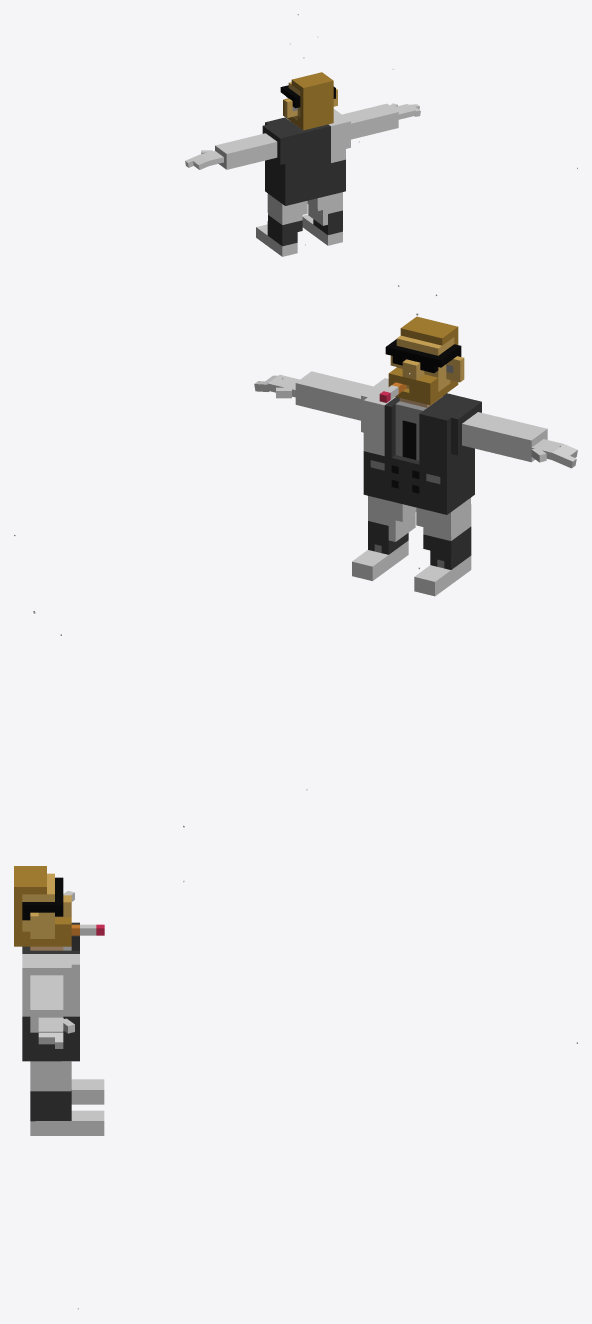
Rendered from Audience 3.fbx.
The picture shows the model from 3 angles, top to bottom: view 1: azimuth 30°, elevation 25°; view 2: azimuth 150°, elevation 25°; view 3: azimuth 270°, elevation 25°; orthographic projection. The views are drawn at different scales.
Parts seen in each view (by area): view 1: Chunk__2_1_2__1, Chunk__2_1_2__12, Chunk__2_0_2_, Chunk__1_1_2__1, Chunk__2_0_2__13, Chunk__2_0_2__14, Chunk__2_1_2__7, Chunk__1_1_2__3, Chunk__3_1_2__8, Chunk__1_1_2__2, Chunk__1_0_2_, Chunk__1_0_2__18 (+2 smaller); view 2: Chunk__2_1_2__1, Chunk__2_1_2__12, Chunk__2_0_2_, Chunk__1_1_2__1, Chunk__2_0_2__13, Chunk__1_1_2__3, Chunk__2_0_2__14, Chunk__2_1_2__7, Chunk__3_1_2__8, Chunk__1_1_2__2, Chunk__1_0_2_, Chunk__1_0_2__18 (+2 smaller); view 3: Chunk__2_1_2__12, Chunk__1_1_2__1, Chunk__1_0_2_, Chunk__1_0_2__17, Chunk__1_0_2__18, Chunk__1_1_2__3, Chunk__1_0_2__19, Chunk__1_1_2__12, Chunk__2_0_1__16, Chunk__1_0_1__20.
Boxes of the visible parts, <box> form: Chunk__2_1_2__1: <box>262,117,330,174</box>; Chunk__2_1_2__12: <box>280,72,333,130</box>; Chunk__2_0_2_: <box>265,160,330,205</box>; Chunk__1_1_2__1: <box>328,109,350,162</box>; Chunk__2_0_2__13: <box>267,193,307,224</box>; Chunk__2_0_2__14: <box>267,215,302,246</box>; Chunk__2_1_2__7: <box>241,133,277,163</box>; Chunk__1_1_2__3: <box>362,103,398,133</box>; Chunk__3_1_2__8: <box>215,140,246,169</box>; Chunk__1_1_2__2: <box>342,109,373,139</box>; Chunk__1_0_2_: <box>331,159,345,194</box>; Chunk__1_0_2__18: <box>313,210,342,234</box>; Chunk__2_1_2__1: <box>384,393,481,471</box>; Chunk__2_1_2__12: <box>388,316,464,407</box>; Chunk__2_0_2_: <box>384,451,474,514</box>; Chunk__1_1_2__1: <box>361,378,395,455</box>; Chunk__2_0_2__13: <box>416,498,471,540</box>; Chunk__1_1_2__3: <box>295,371,345,412</box>; Chunk__2_0_2__14: <box>423,526,471,569</box>; Chunk__2_1_2__7: <box>462,412,512,453</box>; Chunk__3_1_2__8: <box>503,422,547,462</box>; Chunk__1_1_2__2: <box>330,379,372,420</box>; Chunk__1_0_2_: <box>363,451,384,499</box>; Chunk__1_0_2__18: <box>368,521,408,554</box>; Chunk__2_1_2__12: <box>14,866,79,950</box>; Chunk__1_1_2__1: <box>22,954,79,1016</box>; Chunk__1_0_2_: <box>22,1016,79,1061</box>; Chunk__1_0_2__17: <box>30,1061,71,1091</box>; Chunk__1_0_2__18: <box>30,1090,71,1121</box>; Chunk__1_1_2__3: <box>30,992,63,1032</box>; Chunk__1_0_2__19: <box>30,1110,79,1135</box>; Chunk__1_1_2__12: <box>22,902,63,938</box>; Chunk__2_0_1__16: <box>79,1079,104,1104</box>; Chunk__1_0_1__20: <box>79,1110,104,1135</box>.
Size of the model in its own units: 787 by 408 by 685.
